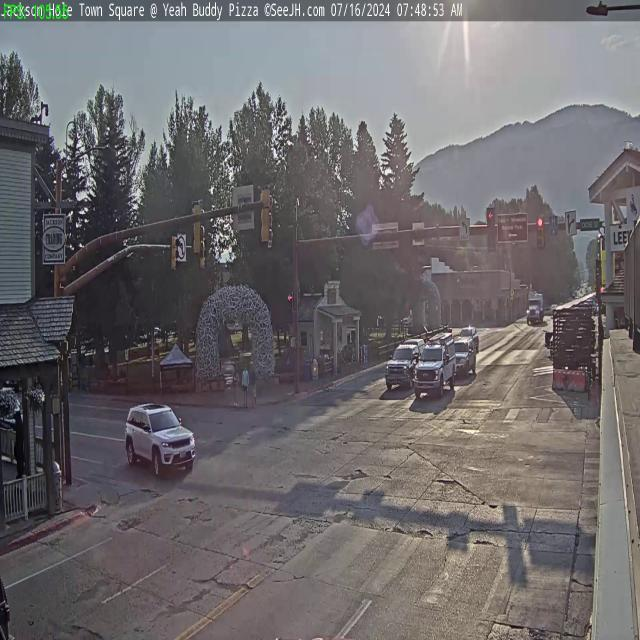motorcycle: (248, 360, 256, 408), (241, 363, 249, 408), (232, 366, 238, 408)
person: (416, 340, 456, 400), (382, 342, 420, 384)
sedan: (125, 398, 196, 481), (449, 338, 478, 378), (459, 325, 478, 347)
suv: (256, 185, 272, 242), (192, 200, 204, 256), (487, 207, 497, 253), (170, 234, 180, 273), (200, 235, 208, 273), (537, 218, 546, 250)
traffic light: (526, 284, 543, 325)
